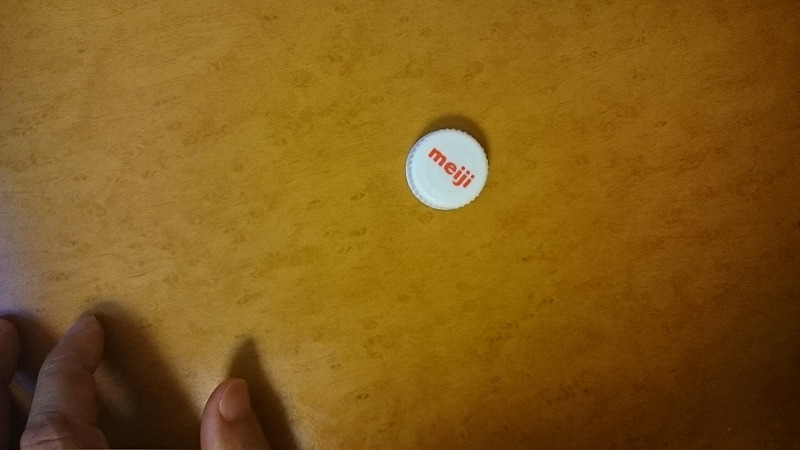B: (402, 123, 495, 210)
